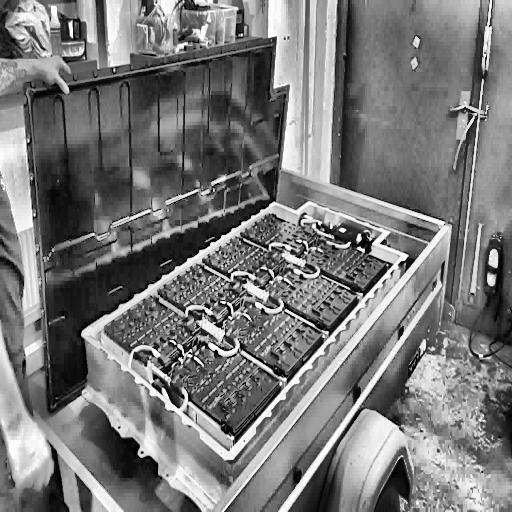high_volt_cable: (126, 341, 189, 414), (198, 331, 240, 357), (184, 302, 214, 331), (253, 294, 286, 316), (230, 270, 257, 288), (293, 264, 321, 280), (322, 238, 352, 250), (269, 242, 292, 253), (300, 217, 323, 227)
